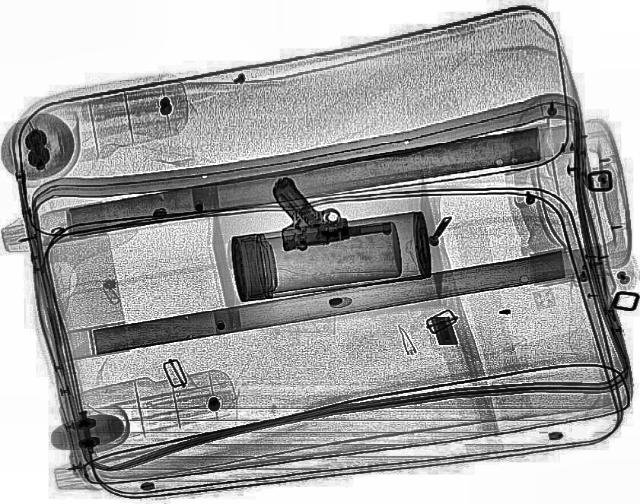Gun: (262, 162, 396, 254)
